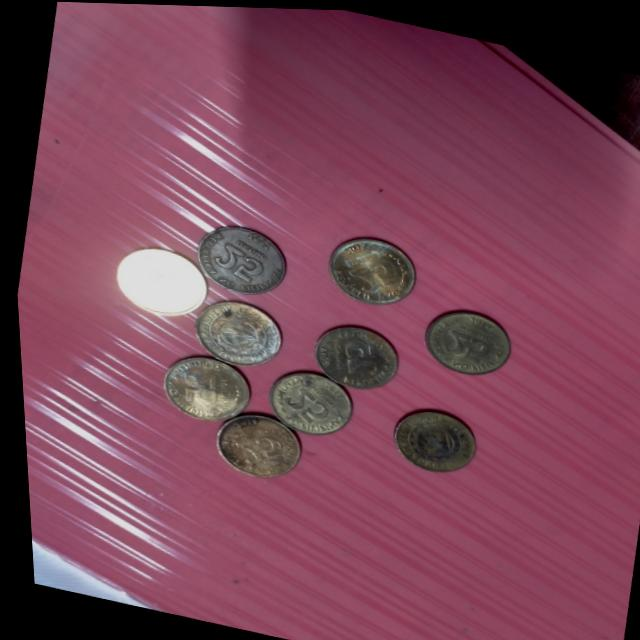25Cent_Old_Front: (414, 311, 500, 378)
